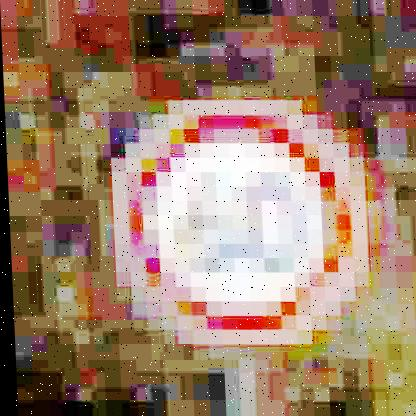Speed Limit -60-: (108, 105, 370, 344)
